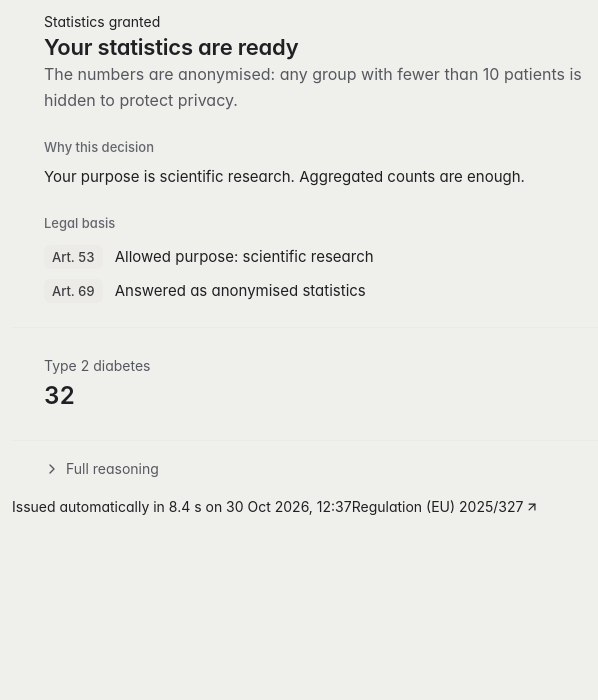
Scenario: DecisionLetter: full reasoning › shows the reason and every legal-basis line once opened
Click the button "Full reasoning".
click(101, 469)  # box [36,453,167,485]
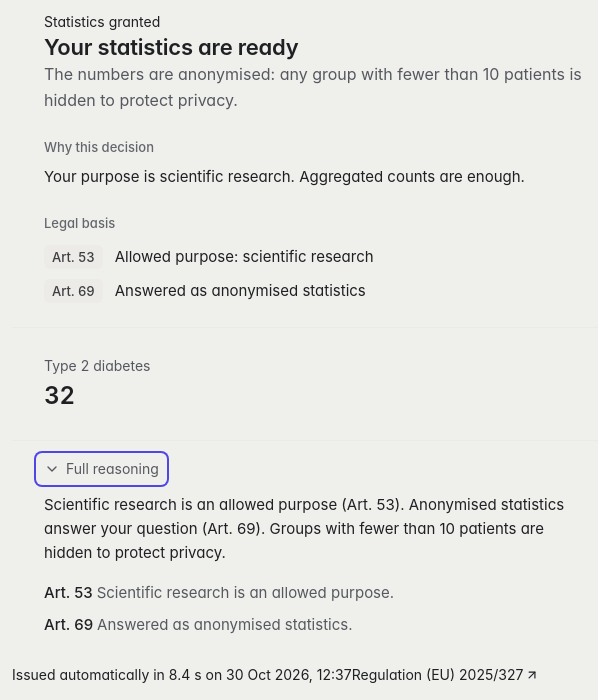
Now the button "Full reasoning" is expanded, box [36,453,167,485]
Now the text "Scientific research is an allowed purpose (Art. 53). Anonymised statistics answer your question (Art. 69). Groups with f" is shown, box [44,495,564,562]
Now the list item "Scientific research is an allowed purpose." reads "Art. 53 Scientific research is an allowed purpose.", box [44,583,394,602]
